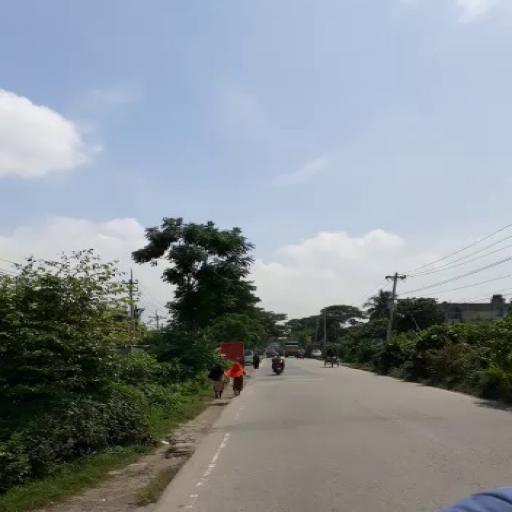motorbike: (270, 354, 285, 373)
rickshaw: (322, 347, 340, 367)
truck: (283, 341, 298, 354)
